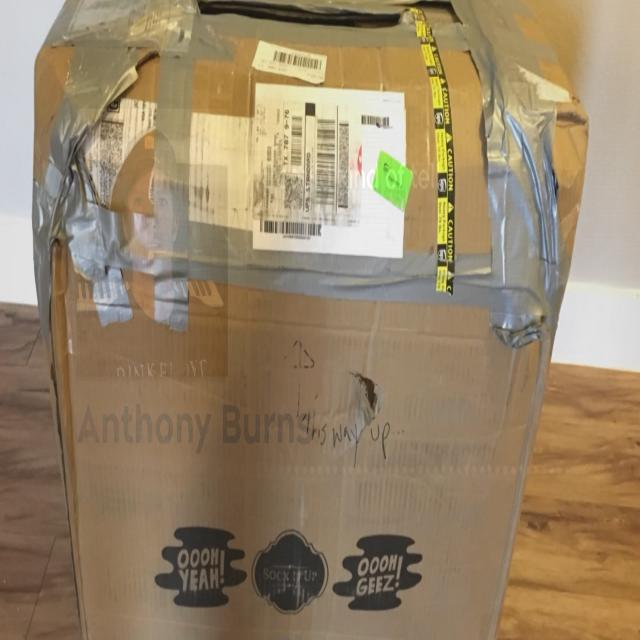hole: (338, 370, 389, 434)
